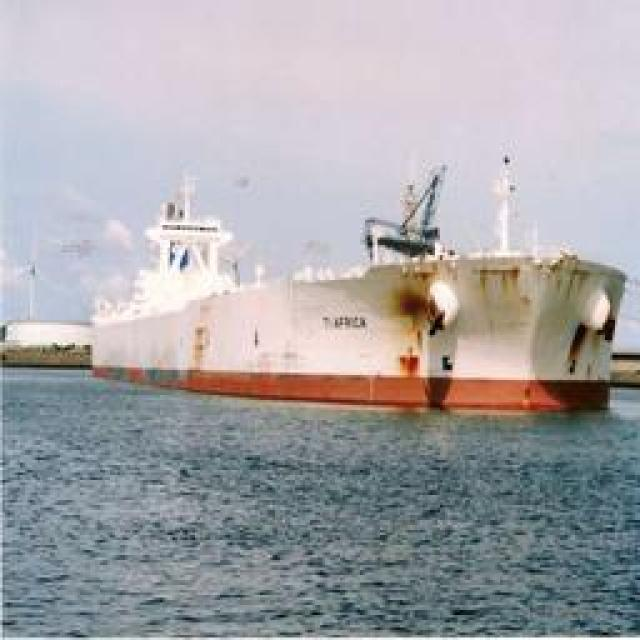CIV_Ship: (89, 215, 624, 418)
